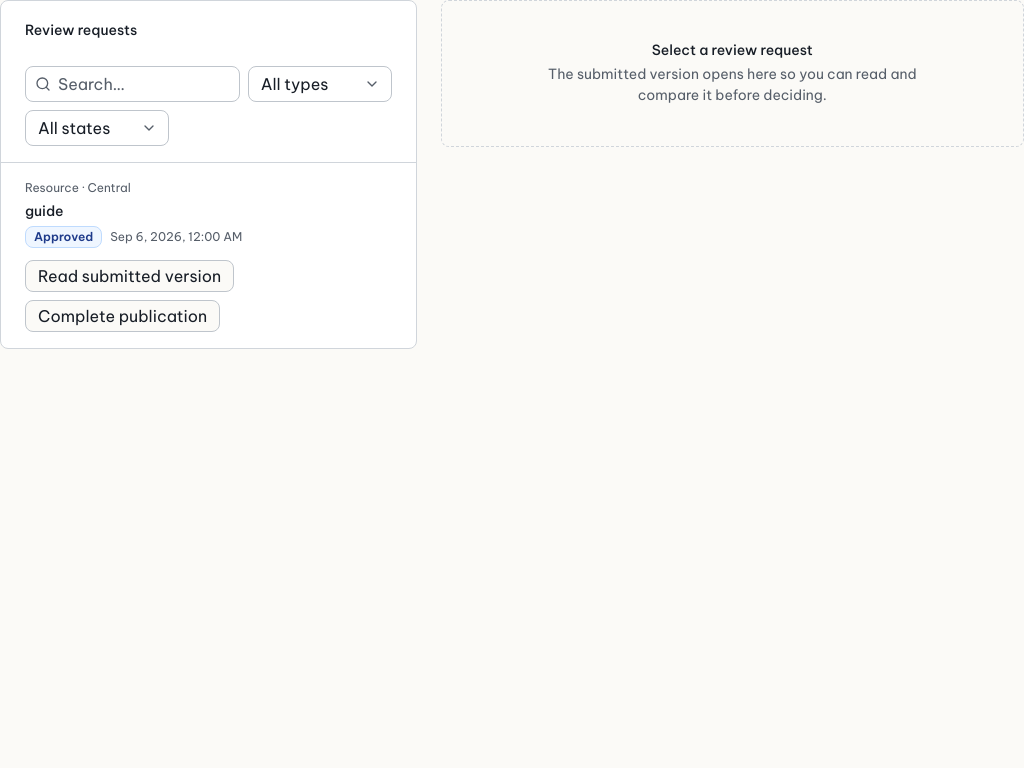
Scenario: review workbench publication › keeps a failed publication available for a retry after a server failure
This screenshot has width=1024, height=768.
Click the button "Complete publication". click: point(123, 316)
box: [25,300,220,332]
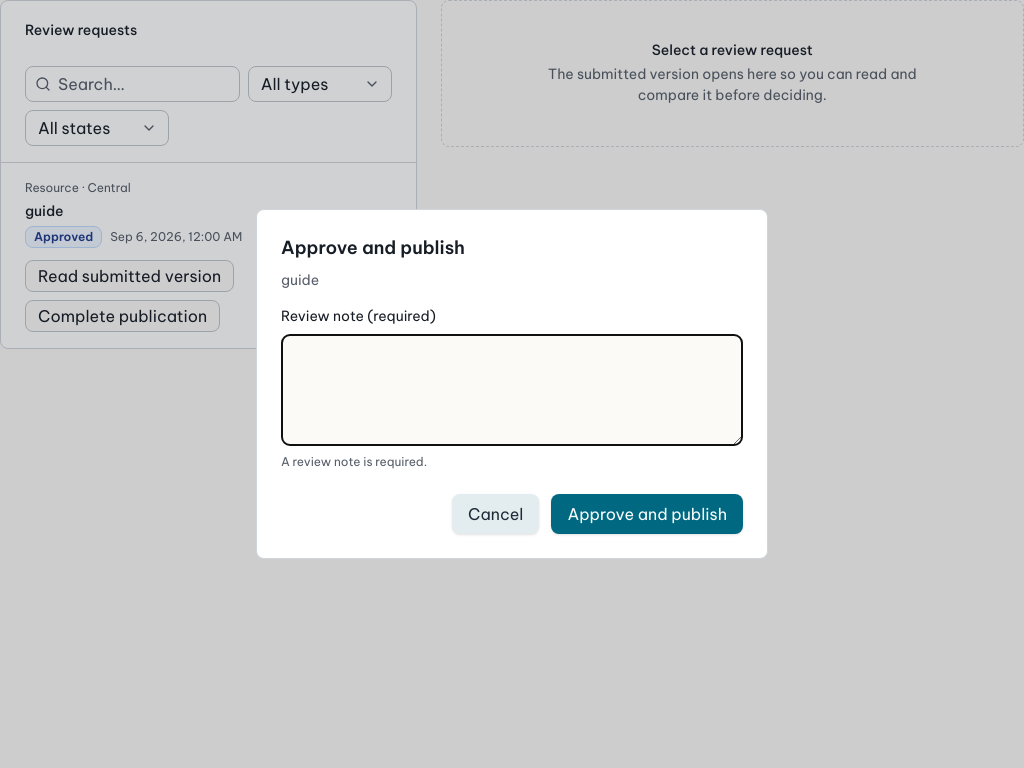
Type "Checked" into the text box labelled "Review note (required)". click: point(512, 390)
box: [281,334,743,446]
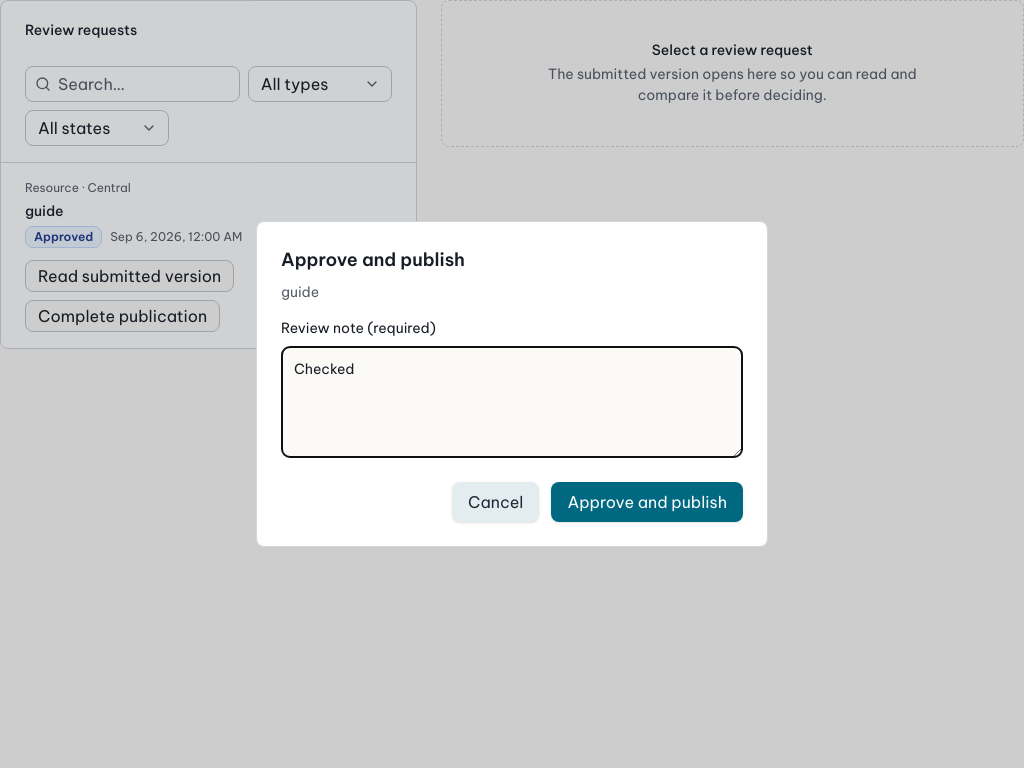
Click the button "Approve and publish". click: point(647, 502)
box: [551,482,743,522]
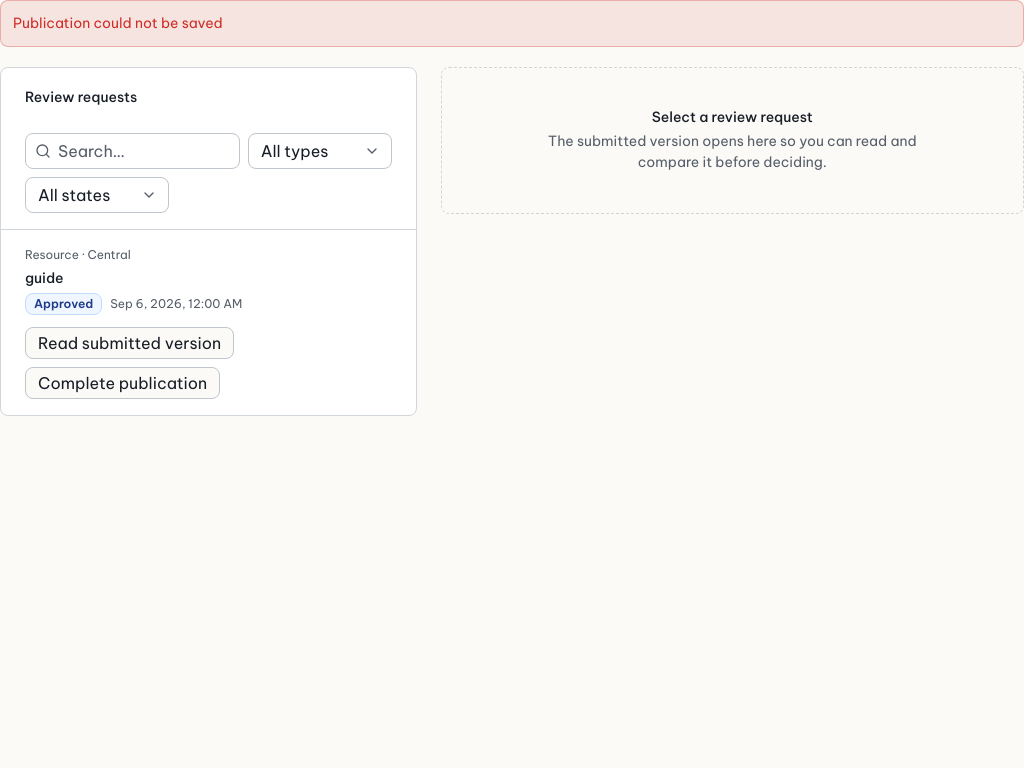
Expected: the button "Complete publication" is enabled, [25,367,220,399]
Expected: the message reads "Publication could not be saved", [13,14,223,32]
